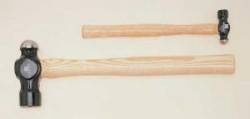hammer: (11, 38, 238, 108), (77, 6, 232, 44)
